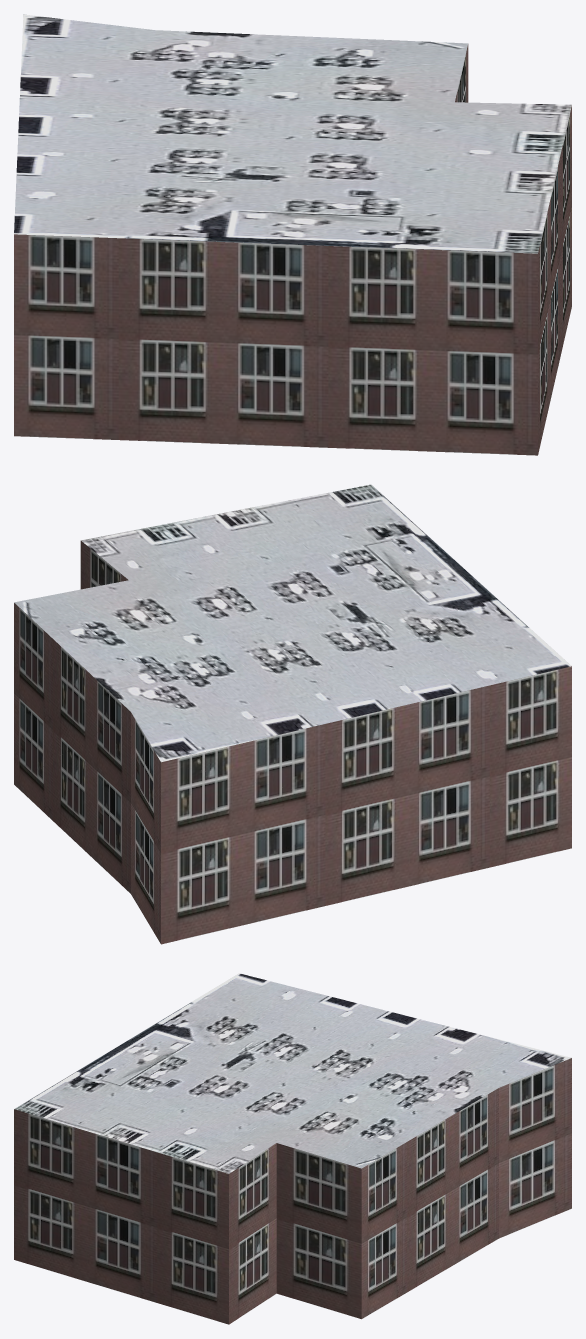
Rendered from ResTex__359.fbx.
3 views of the same model, one above another, from view 1: azimuth 30°, elevation 25°; view 2: azimuth 150°, elevation 25°; view 3: azimuth 270°, elevation 25° (orthographic). The views are drawn at different scales.
Parts seen in each view (by area): view 1: CityEngineMaterial_12_m, CityEngineMaterial_4_m; view 2: CityEngineMaterial_12_m, CityEngineMaterial_4_m; view 3: CityEngineMaterial_12_m, CityEngineMaterial_4_m.
Boxes of the visible parts, box(x1,y1,x2,y2) form: CityEngineMaterial_12_m: box(14, 44, 571, 455); CityEngineMaterial_4_m: box(14, 14, 571, 253); CityEngineMaterial_12_m: box(14, 541, 571, 944); CityEngineMaterial_4_m: box(14, 484, 571, 762); CityEngineMaterial_12_m: box(14, 1058, 571, 1324); CityEngineMaterial_4_m: box(14, 973, 571, 1173).
Size of the model in its own units: 17.14 by 6 by 20.14.
Materials: 2 (2 with a texture image).
